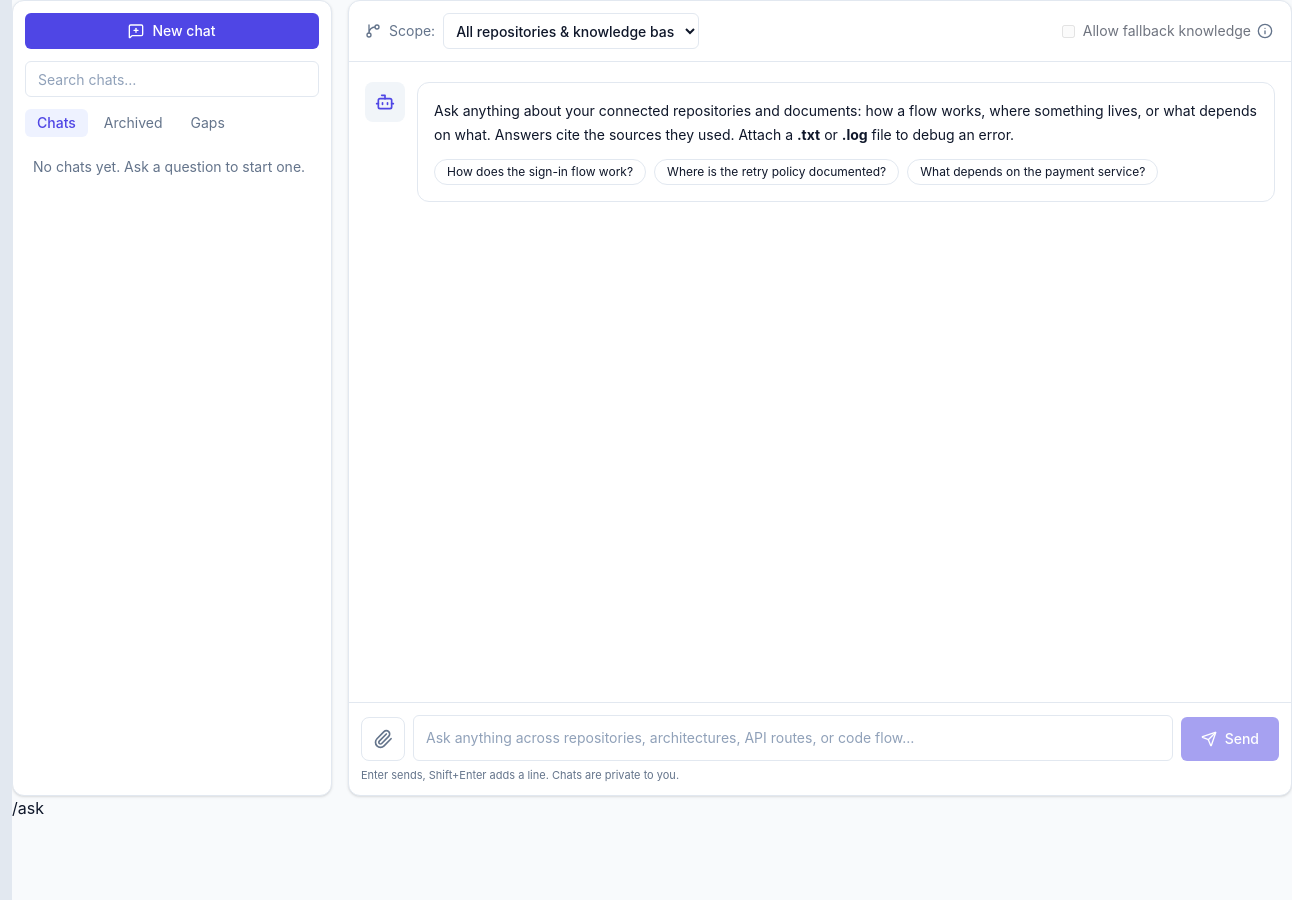
Test: Ask: a new chat › offers example questions that fill the box
The width and height of the screenshot is (1292, 900).
Click the button "How does the sign-in flow work?" at coordinates (540, 172), box [434,159,646,185]
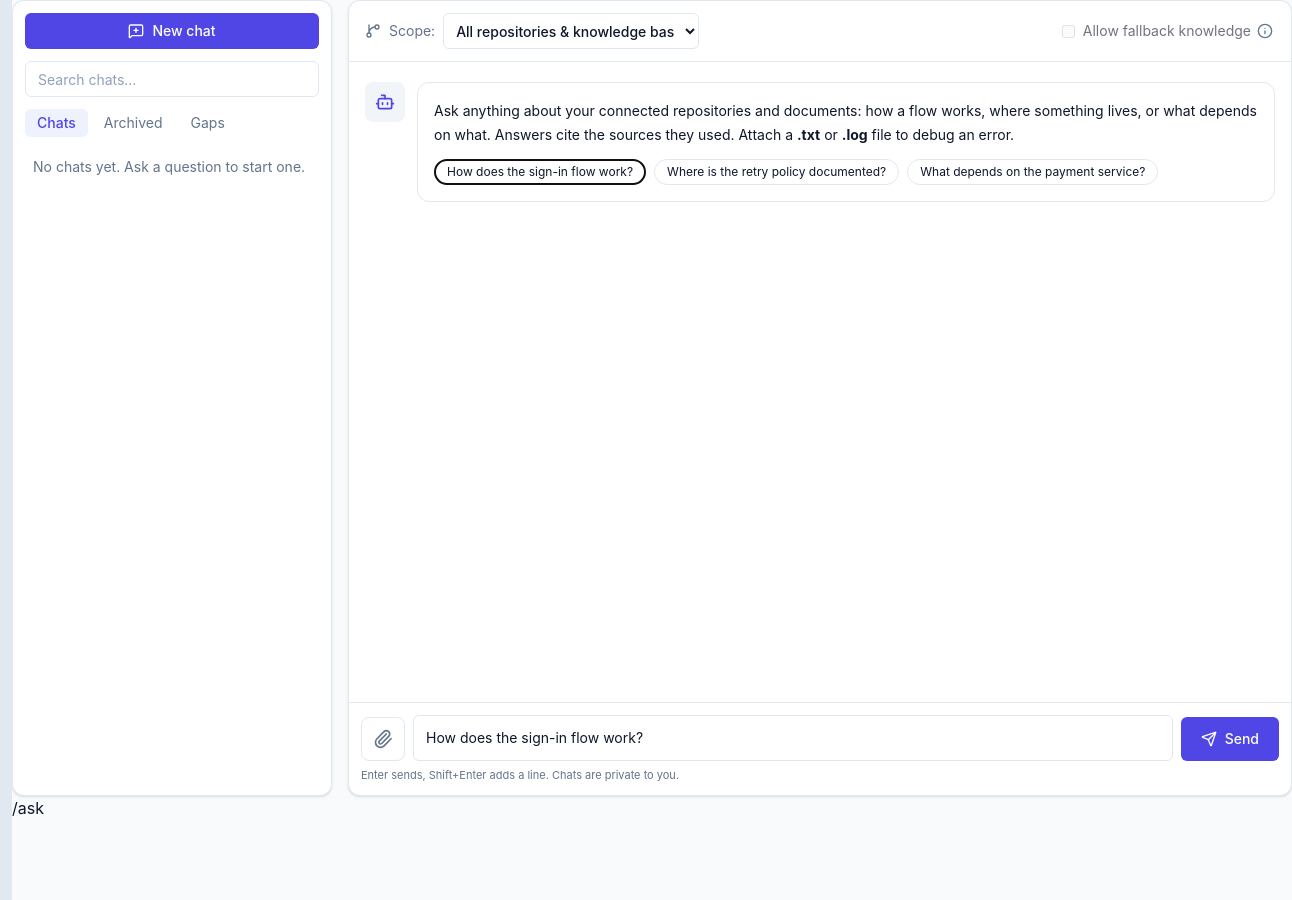
Expected: the text box named "Message" holds "How does the sign-in flow work?", [413,714,1173,760]
